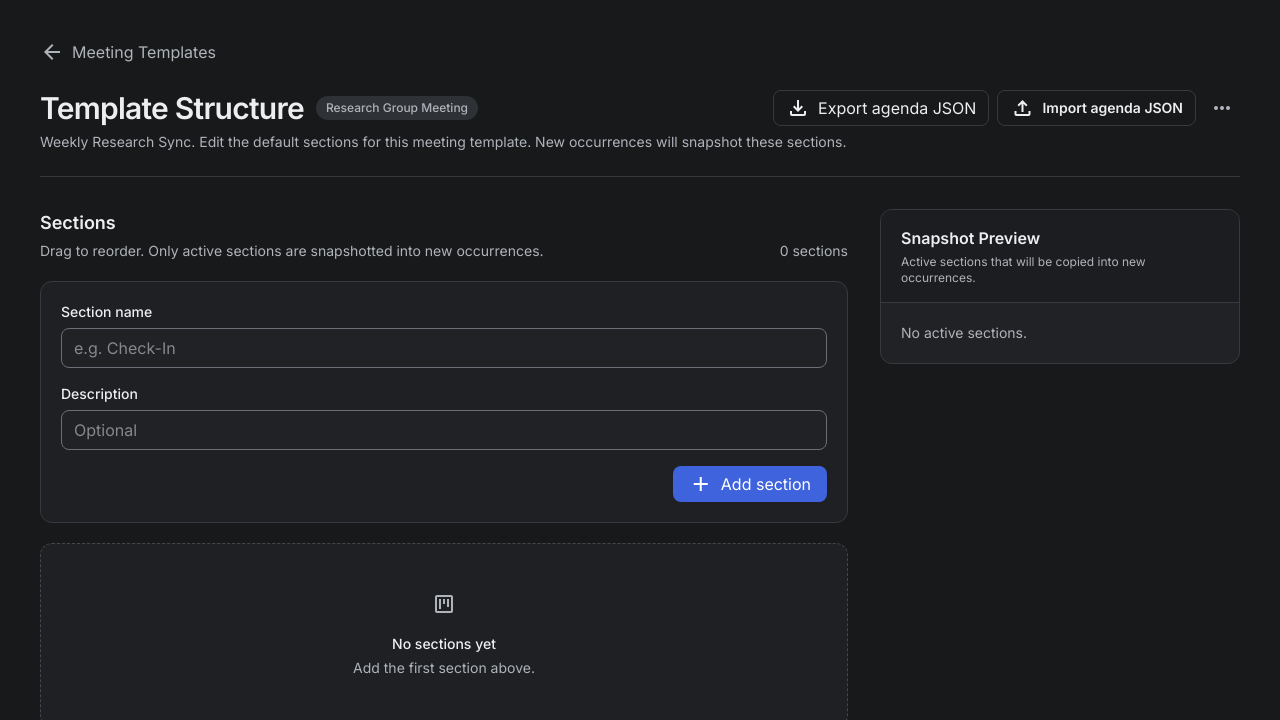
Test: MeetingSeriesDetailPage template deletion › offers the delete action to a user who can manage the template
This screenshot has width=1280, height=720.
Expected: the heading "Template Structure" is shown, left=40, top=90, right=304, bottom=126
Step 1. Click the button named "Template actions" → [1222, 108], box left=1204, top=90, right=1240, bottom=126
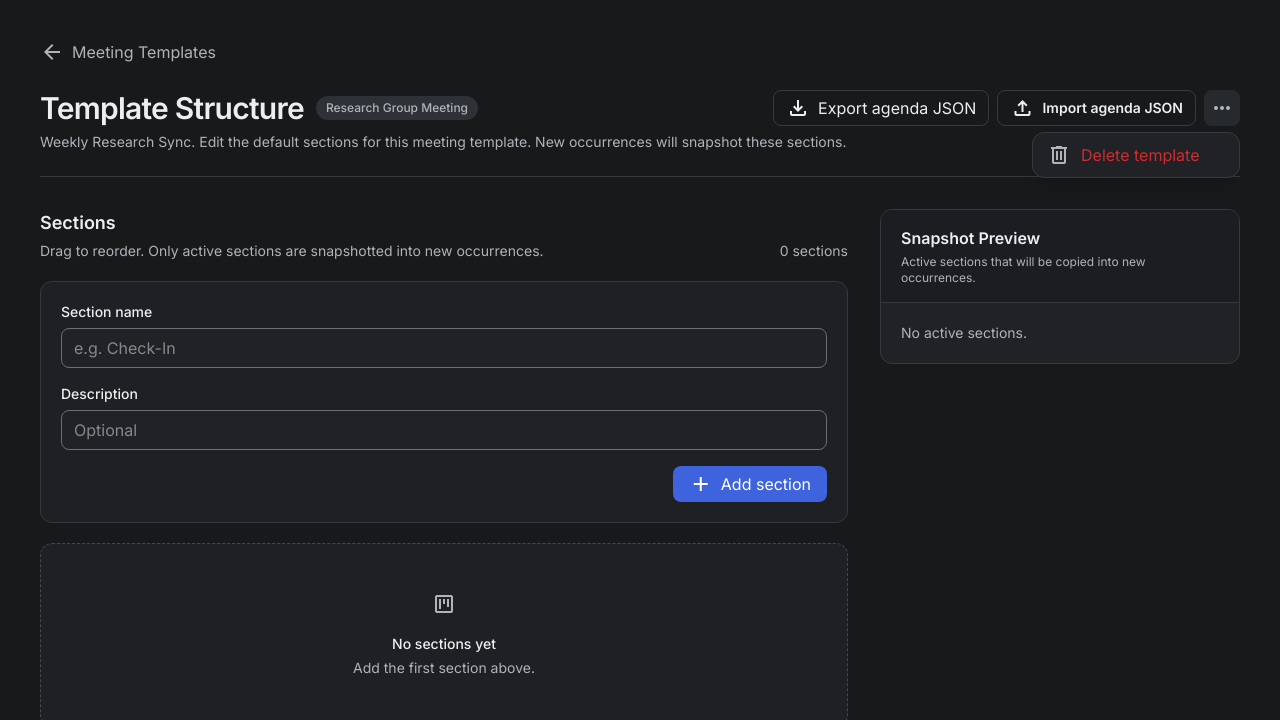
Result: the menu item "Delete template" is shown at left=1037, top=137, right=1235, bottom=173
